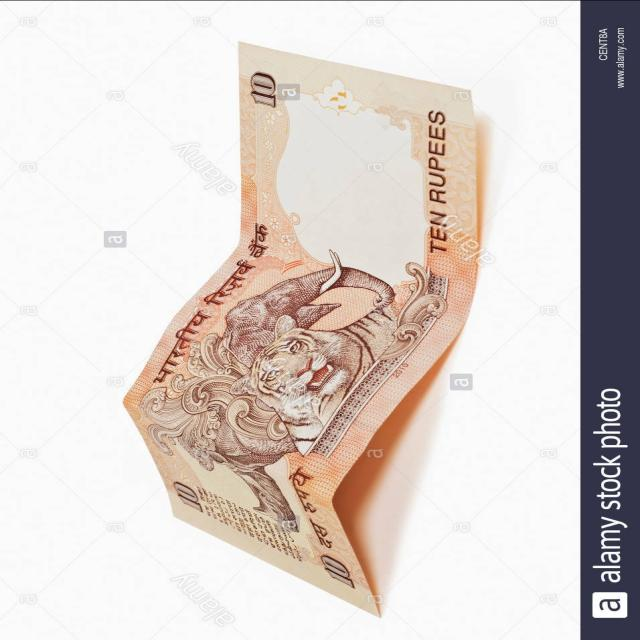10IndianRupees: (143, 38, 481, 603)
